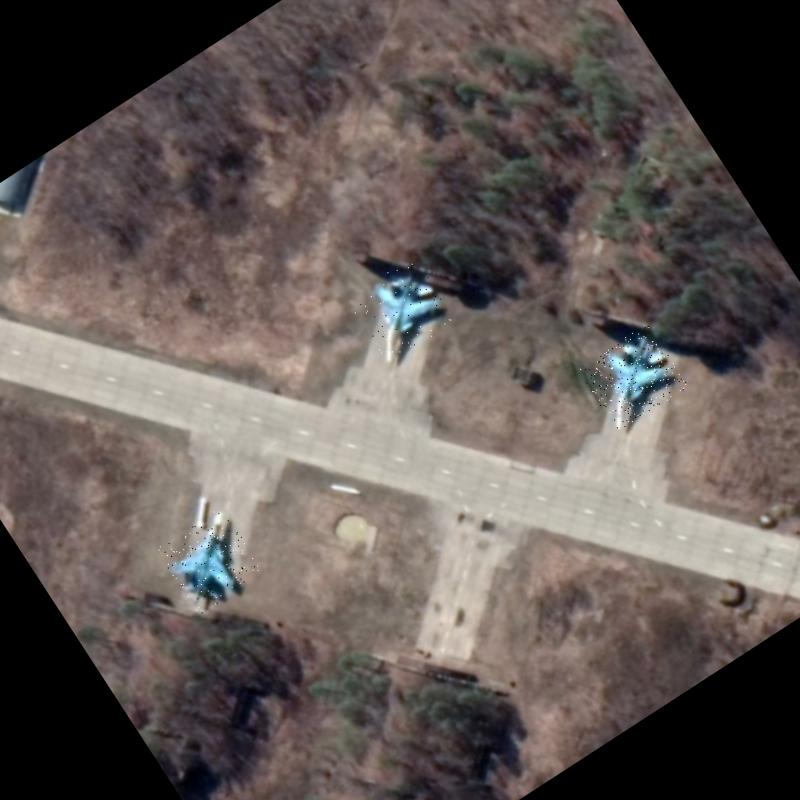A19: (344, 255, 457, 366), (576, 322, 690, 432), (155, 506, 265, 616)
